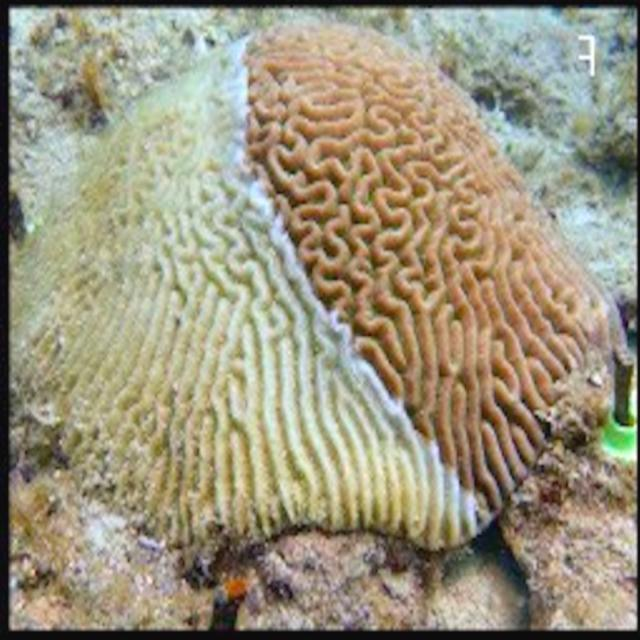Coral: (10, 20, 634, 552)
